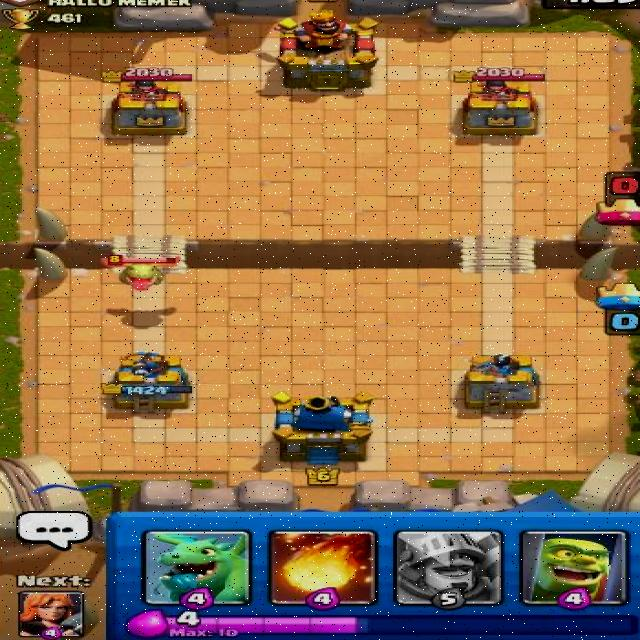Enemy-BabyDragon: (95, 252, 187, 294)
